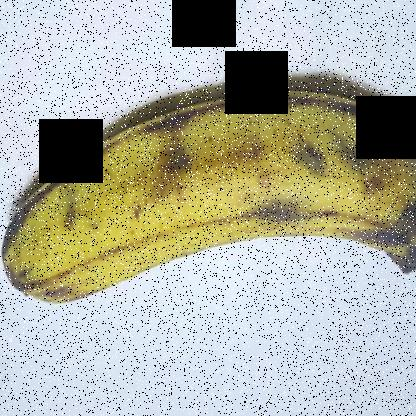overripe: (0, 61, 415, 320)
